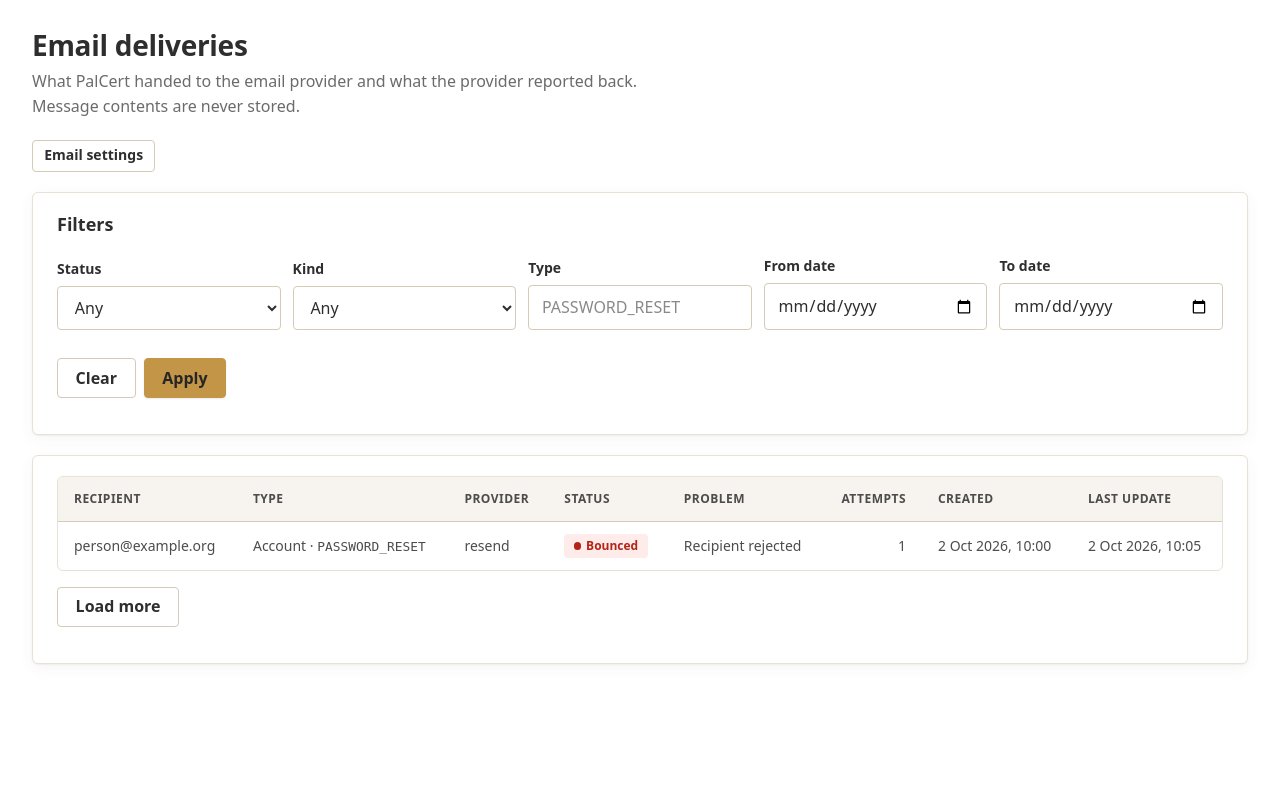
Test case: email deliveries page › lists metadata, filters and paginates
The width and height of the screenshot is (1280, 800).
Check: the text "person@example.org" is shown, box top-left (74, 536), bottom-right (215, 555)
Click the button "Load more" at (118, 607), box top-left (57, 587), bottom-right (179, 627)
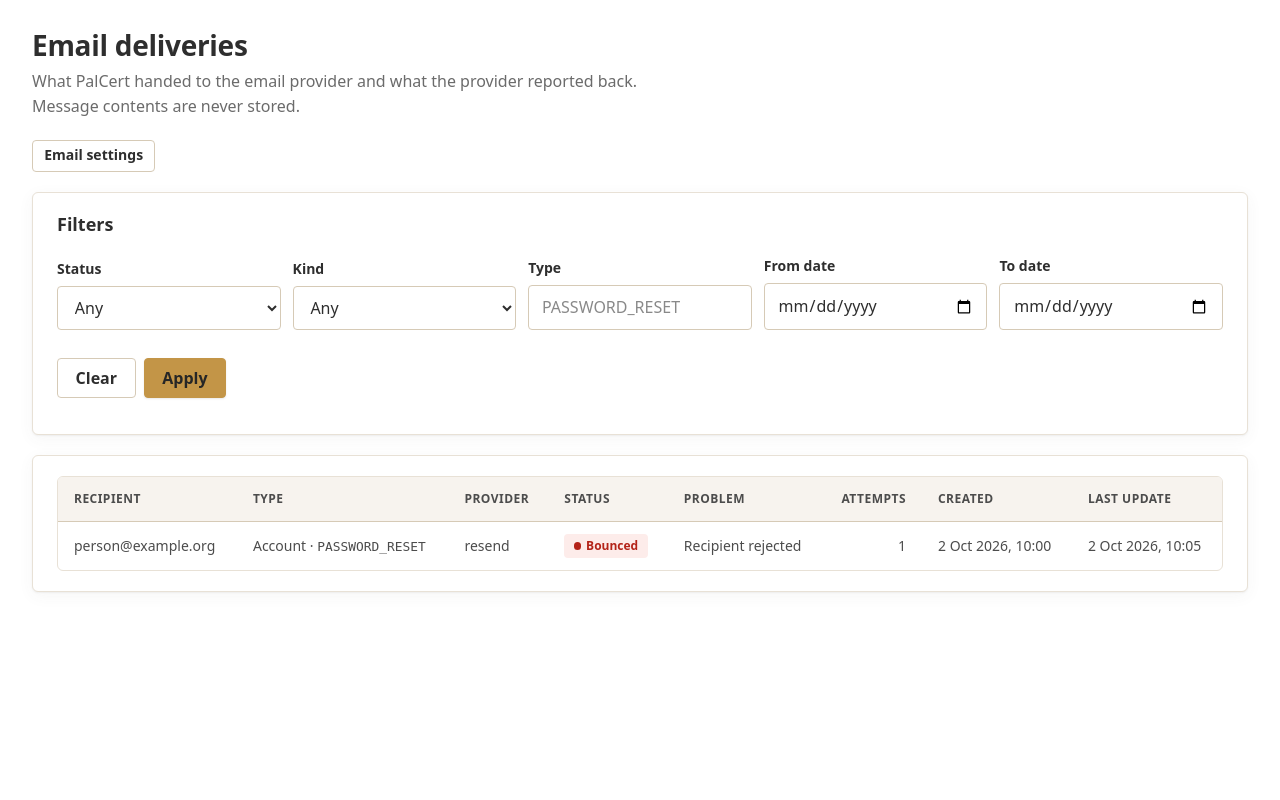
Select "Failed" in the dropdown with test id "deliveries-filter-status" at (169, 308), box top-left (57, 286), bottom-right (281, 330)
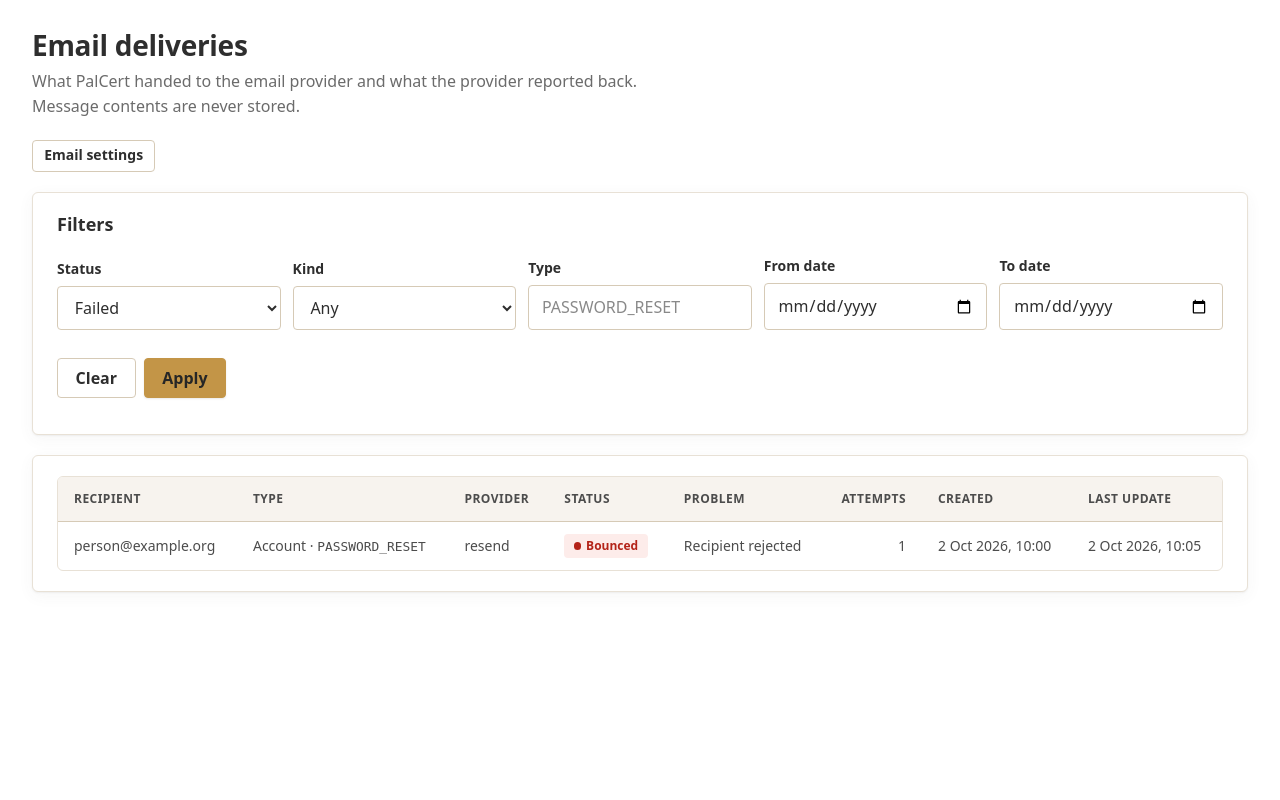
Click the button with test id "deliveries-apply" at (185, 378), box top-left (144, 358), bottom-right (226, 398)
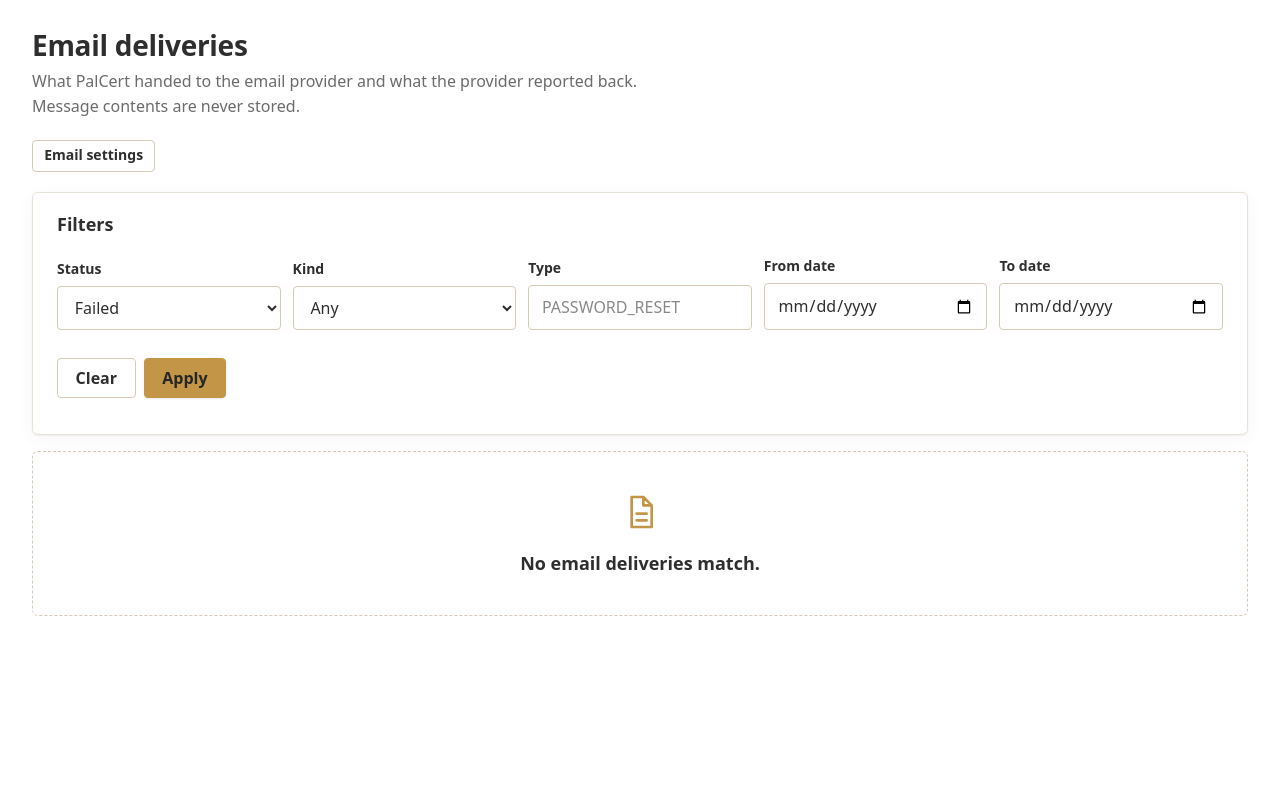
Check: the heading "No email deliveries match." is shown, box top-left (520, 552), bottom-right (760, 574)
